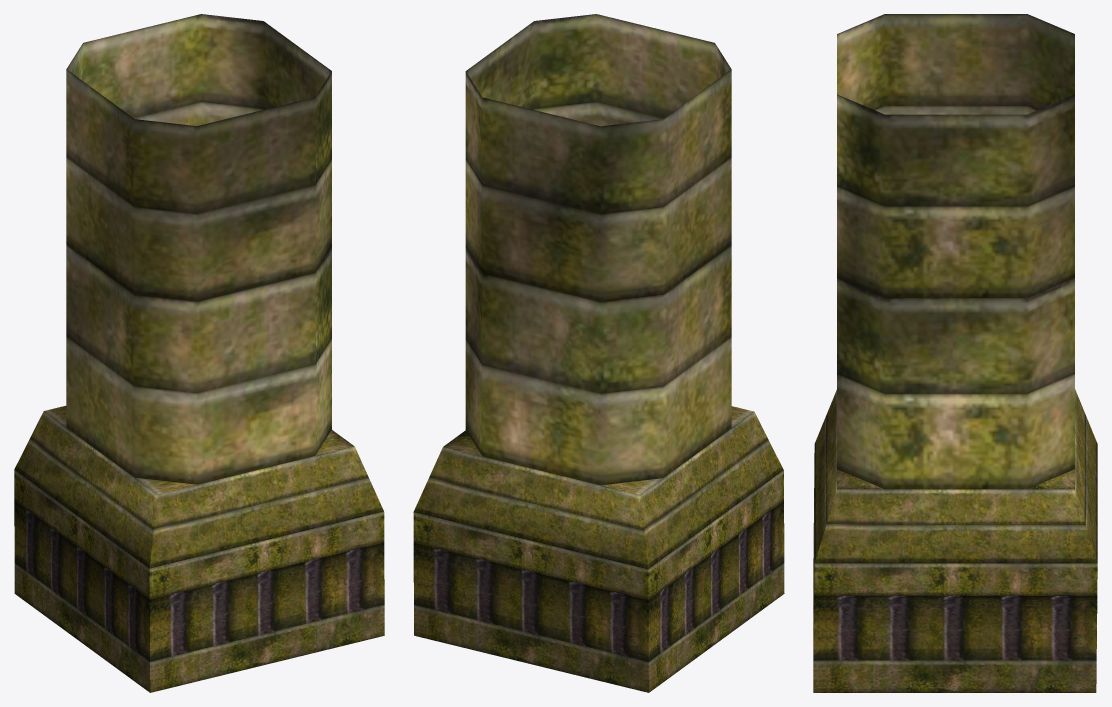
File: OVERHILL_A_01_OBJECT269.fbx
The picture shows the model from 3 angles, left to right: view 1: azimuth 30°, elevation 25°; view 2: azimuth 150°, elevation 25°; view 3: azimuth 270°, elevation 25°; orthographic projection. The views are drawn at different scales.
Parts seen in each view (by area): view 1: OVERHILL_A_01_OBJECT269; view 2: OVERHILL_A_01_OBJECT269; view 3: OVERHILL_A_01_OBJECT269.
Part boxes in pixels (x1=…): OVERHILL_A_01_OBJECT269: x1=14, y1=14, x2=384, y2=692; OVERHILL_A_01_OBJECT269: x1=413, y1=14, x2=784, y2=692; OVERHILL_A_01_OBJECT269: x1=813, y1=14, x2=1097, y2=692.
Size of the model in its own units: 17889 by 39672 by 17967.
Materials: 4 (4 with a texture image).
